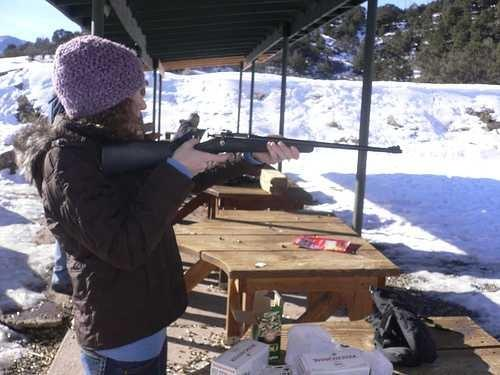heavyweapon: (91, 107, 429, 185)
